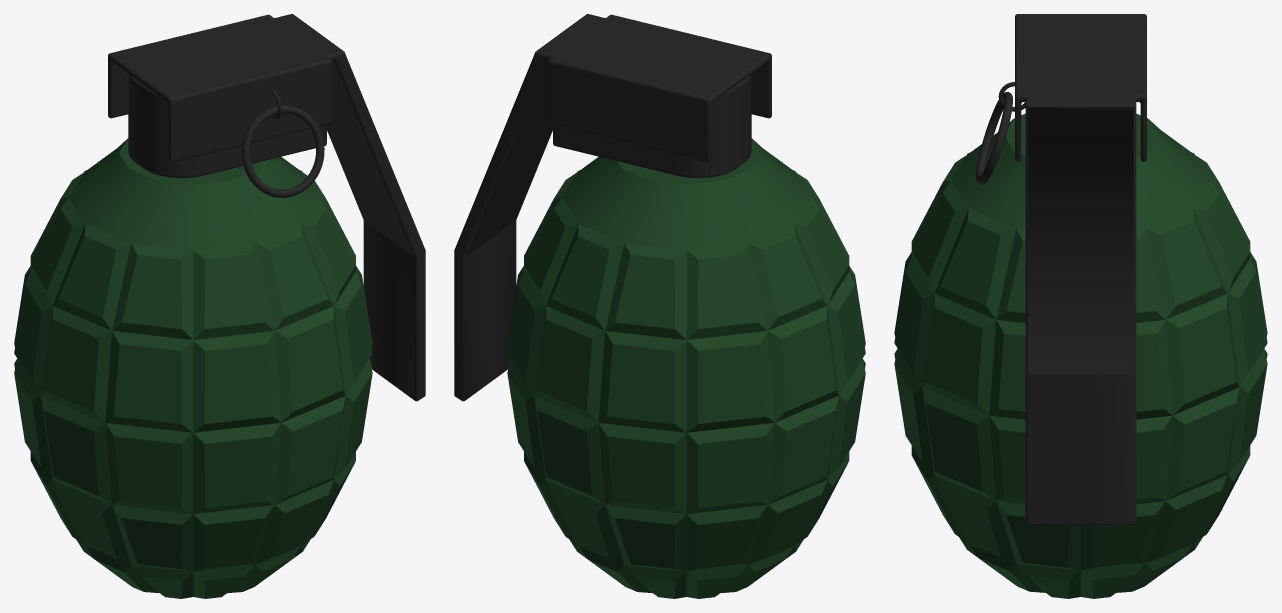
File: Gernade.glb
3 renders of one model, left to right at view 1: azimuth 30°, elevation 25°; view 2: azimuth 150°, elevation 25°; view 3: azimuth 270°, elevation 25°, orthographic. The views are drawn at different scales.
Visible parts, largest first — view 1: Sphere.001; view 2: Sphere.001; view 3: Sphere.001.
Part boxes in pixels (x1=…): Sphere.001: x1=14, y1=14, x2=425, y2=598; Sphere.001: x1=454, y1=14, x2=865, y2=598; Sphere.001: x1=894, y1=14, x2=1267, y2=598.
Bounding box in the file's own units: 2.38 × 3.17 × 2.04.
1 material, 1 textured.
